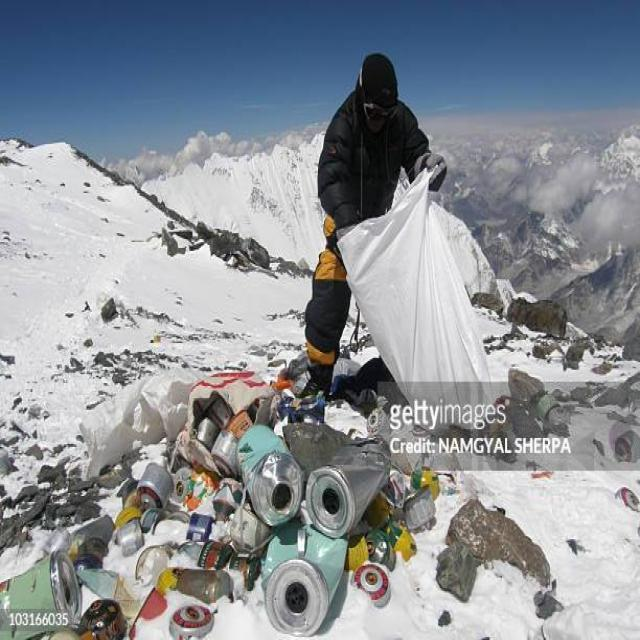metal: (1, 423, 380, 627)
trash: (335, 212, 502, 398)
